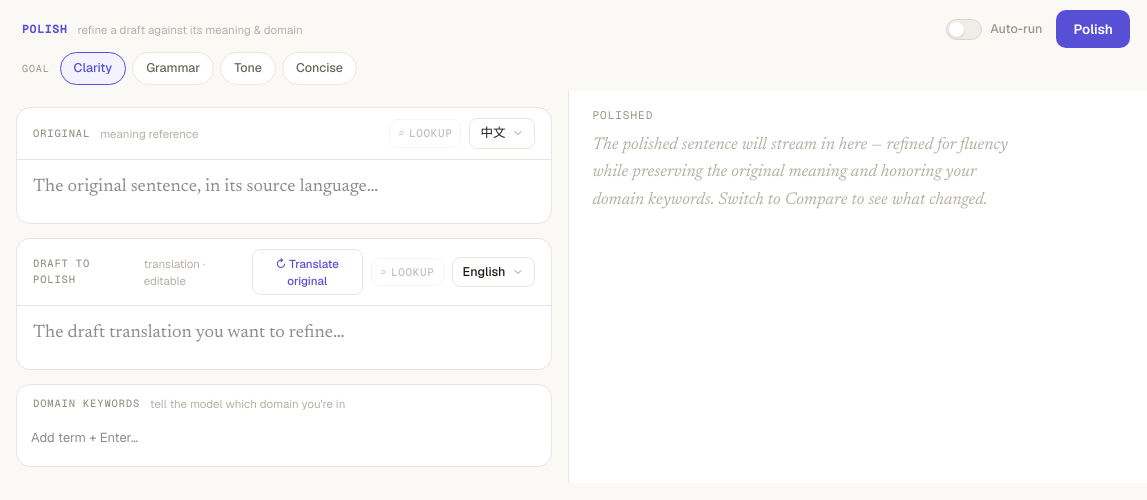
Scenario: PolishPanel › streams "Translate original" into the draft
The width and height of the screenshot is (1147, 500).
Step 1. Type "原文" into the text box labelled "original" → (206, 188), box left=17, top=160, right=394, bottom=216
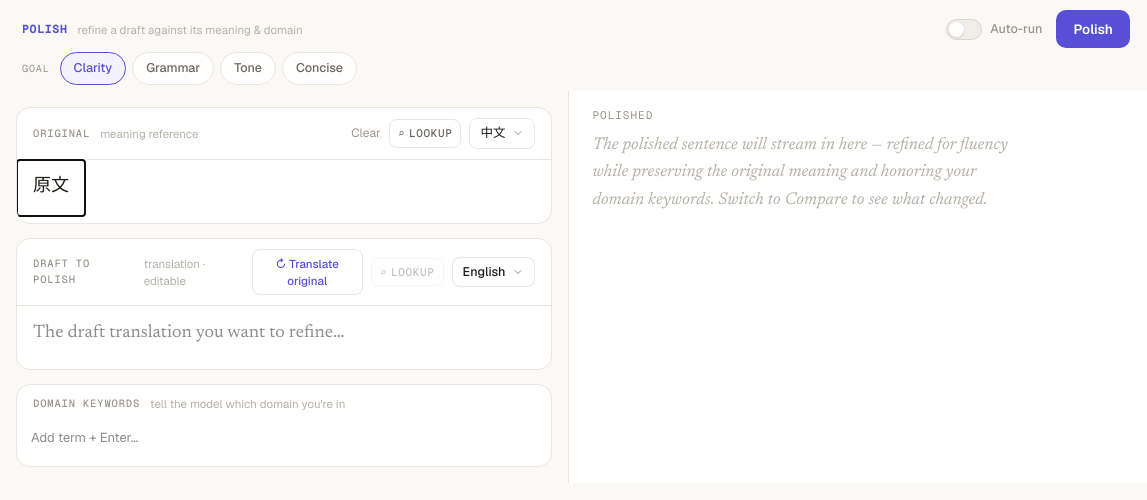
Step 2. Click the button "↻ Translate original" → click(307, 272), box left=252, top=249, right=363, bottom=295
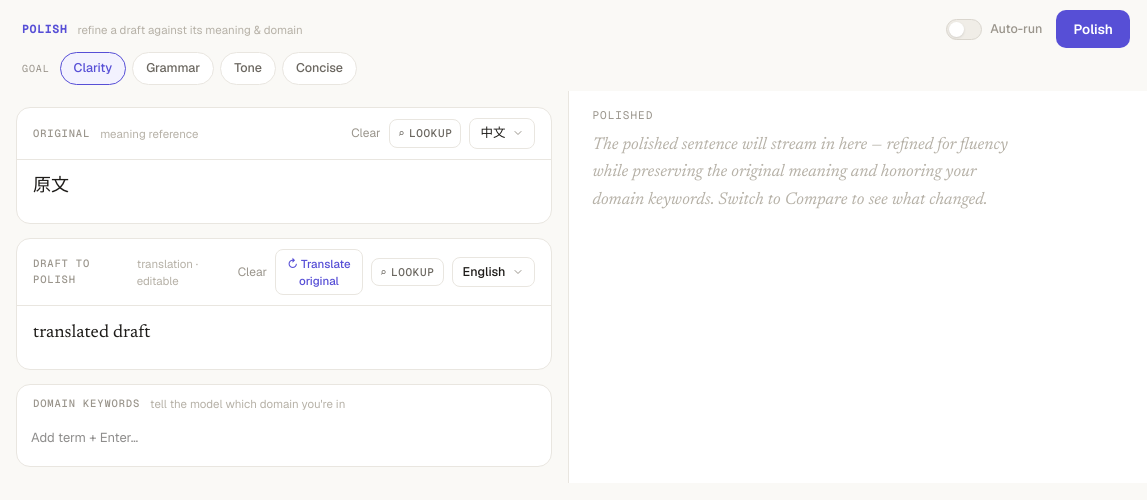
Expected: the text box named "Draft to polish" holds "translated draft", left=17, top=306, right=166, bottom=362
